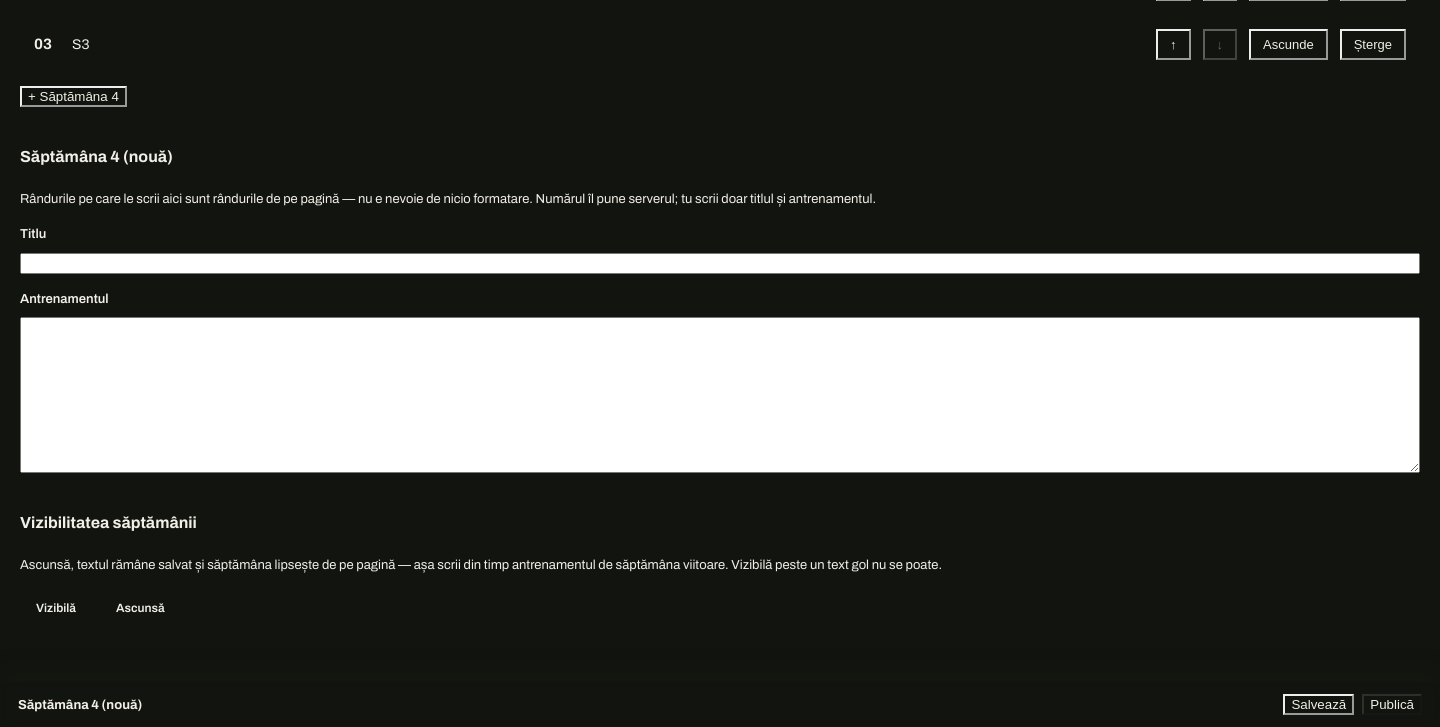
Test: textul nesalvat › schimbarea săptămânii cu text atins cere confirmare, și nu o face încă
(page scrolled)
In the text box labelled "Antrenamentul": (720, 395) x1=20 y1=317 x2=1420 y2=473, type "ceva nesalvat"
(page scrolled)
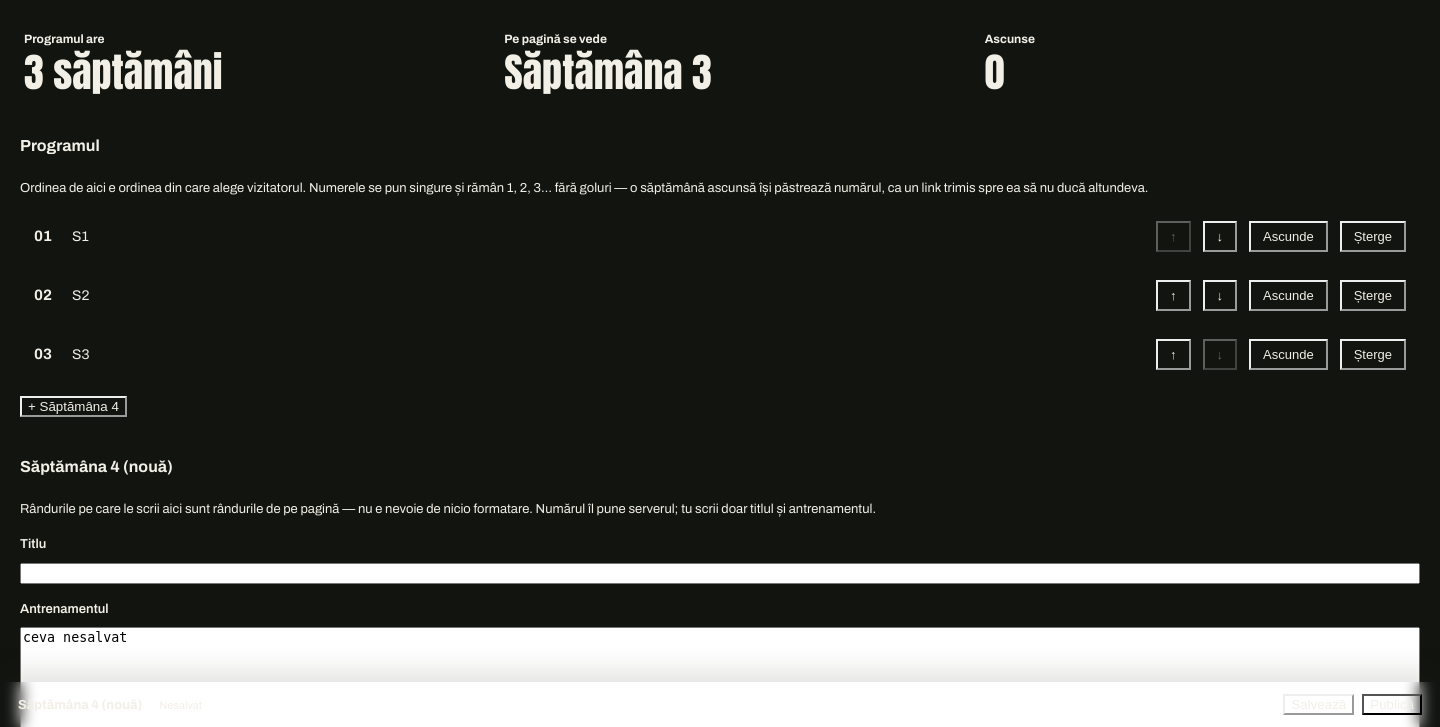
Click the button "S1": (80, 236) x1=72 y1=223 x2=1144 y2=250
(page scrolled)
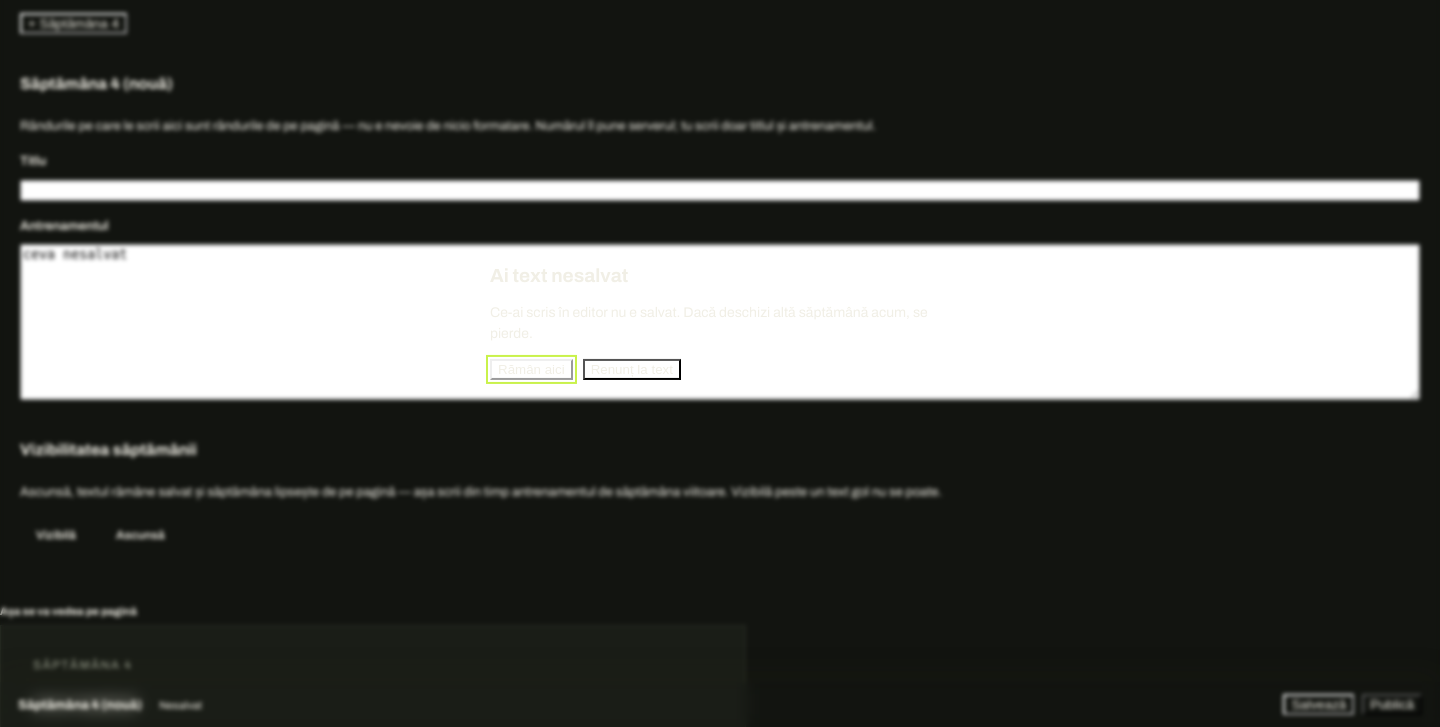
Expected: the dialog "text nesalvat" is shown, x1=468 y1=242 x2=972 y2=402
